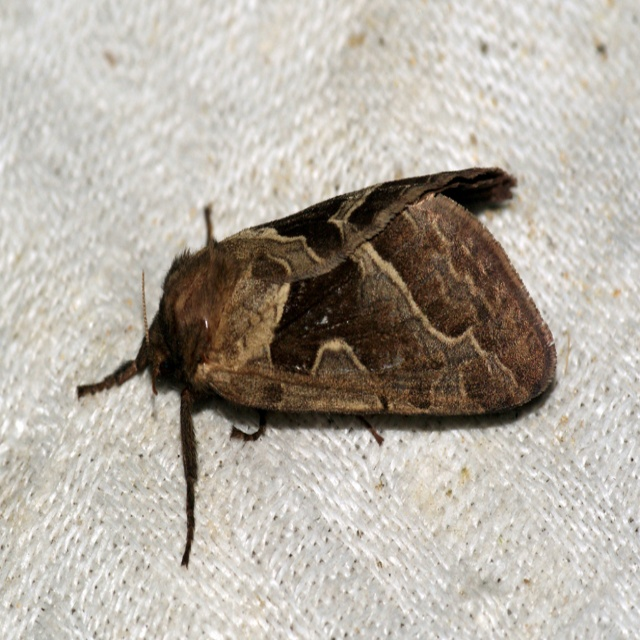Moths and butterflies: (72, 163, 558, 563)
